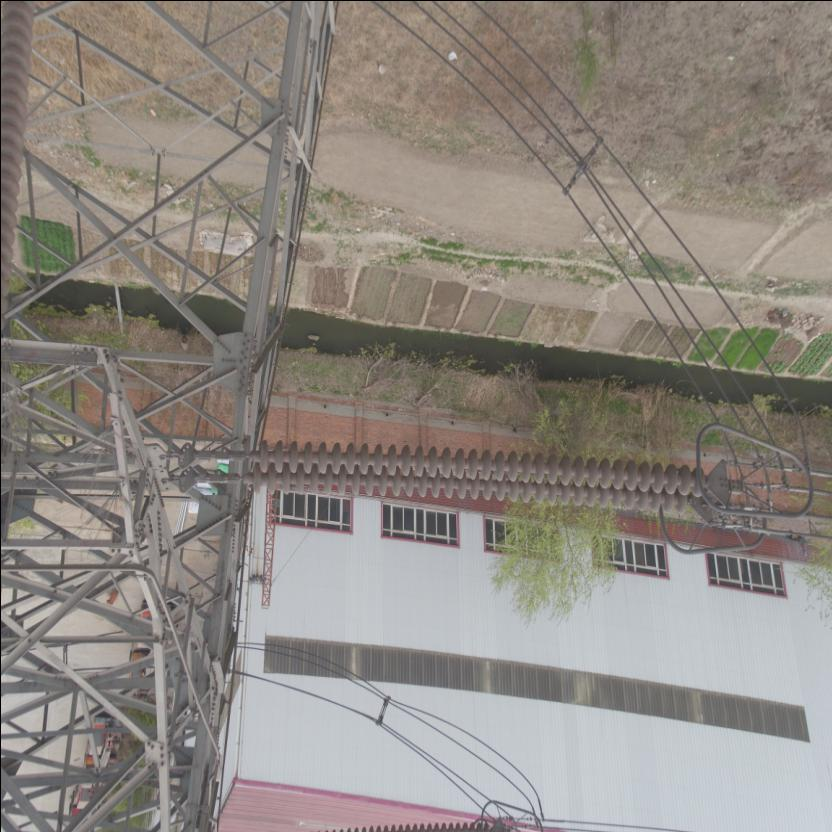insulator: (209, 436, 717, 525)
